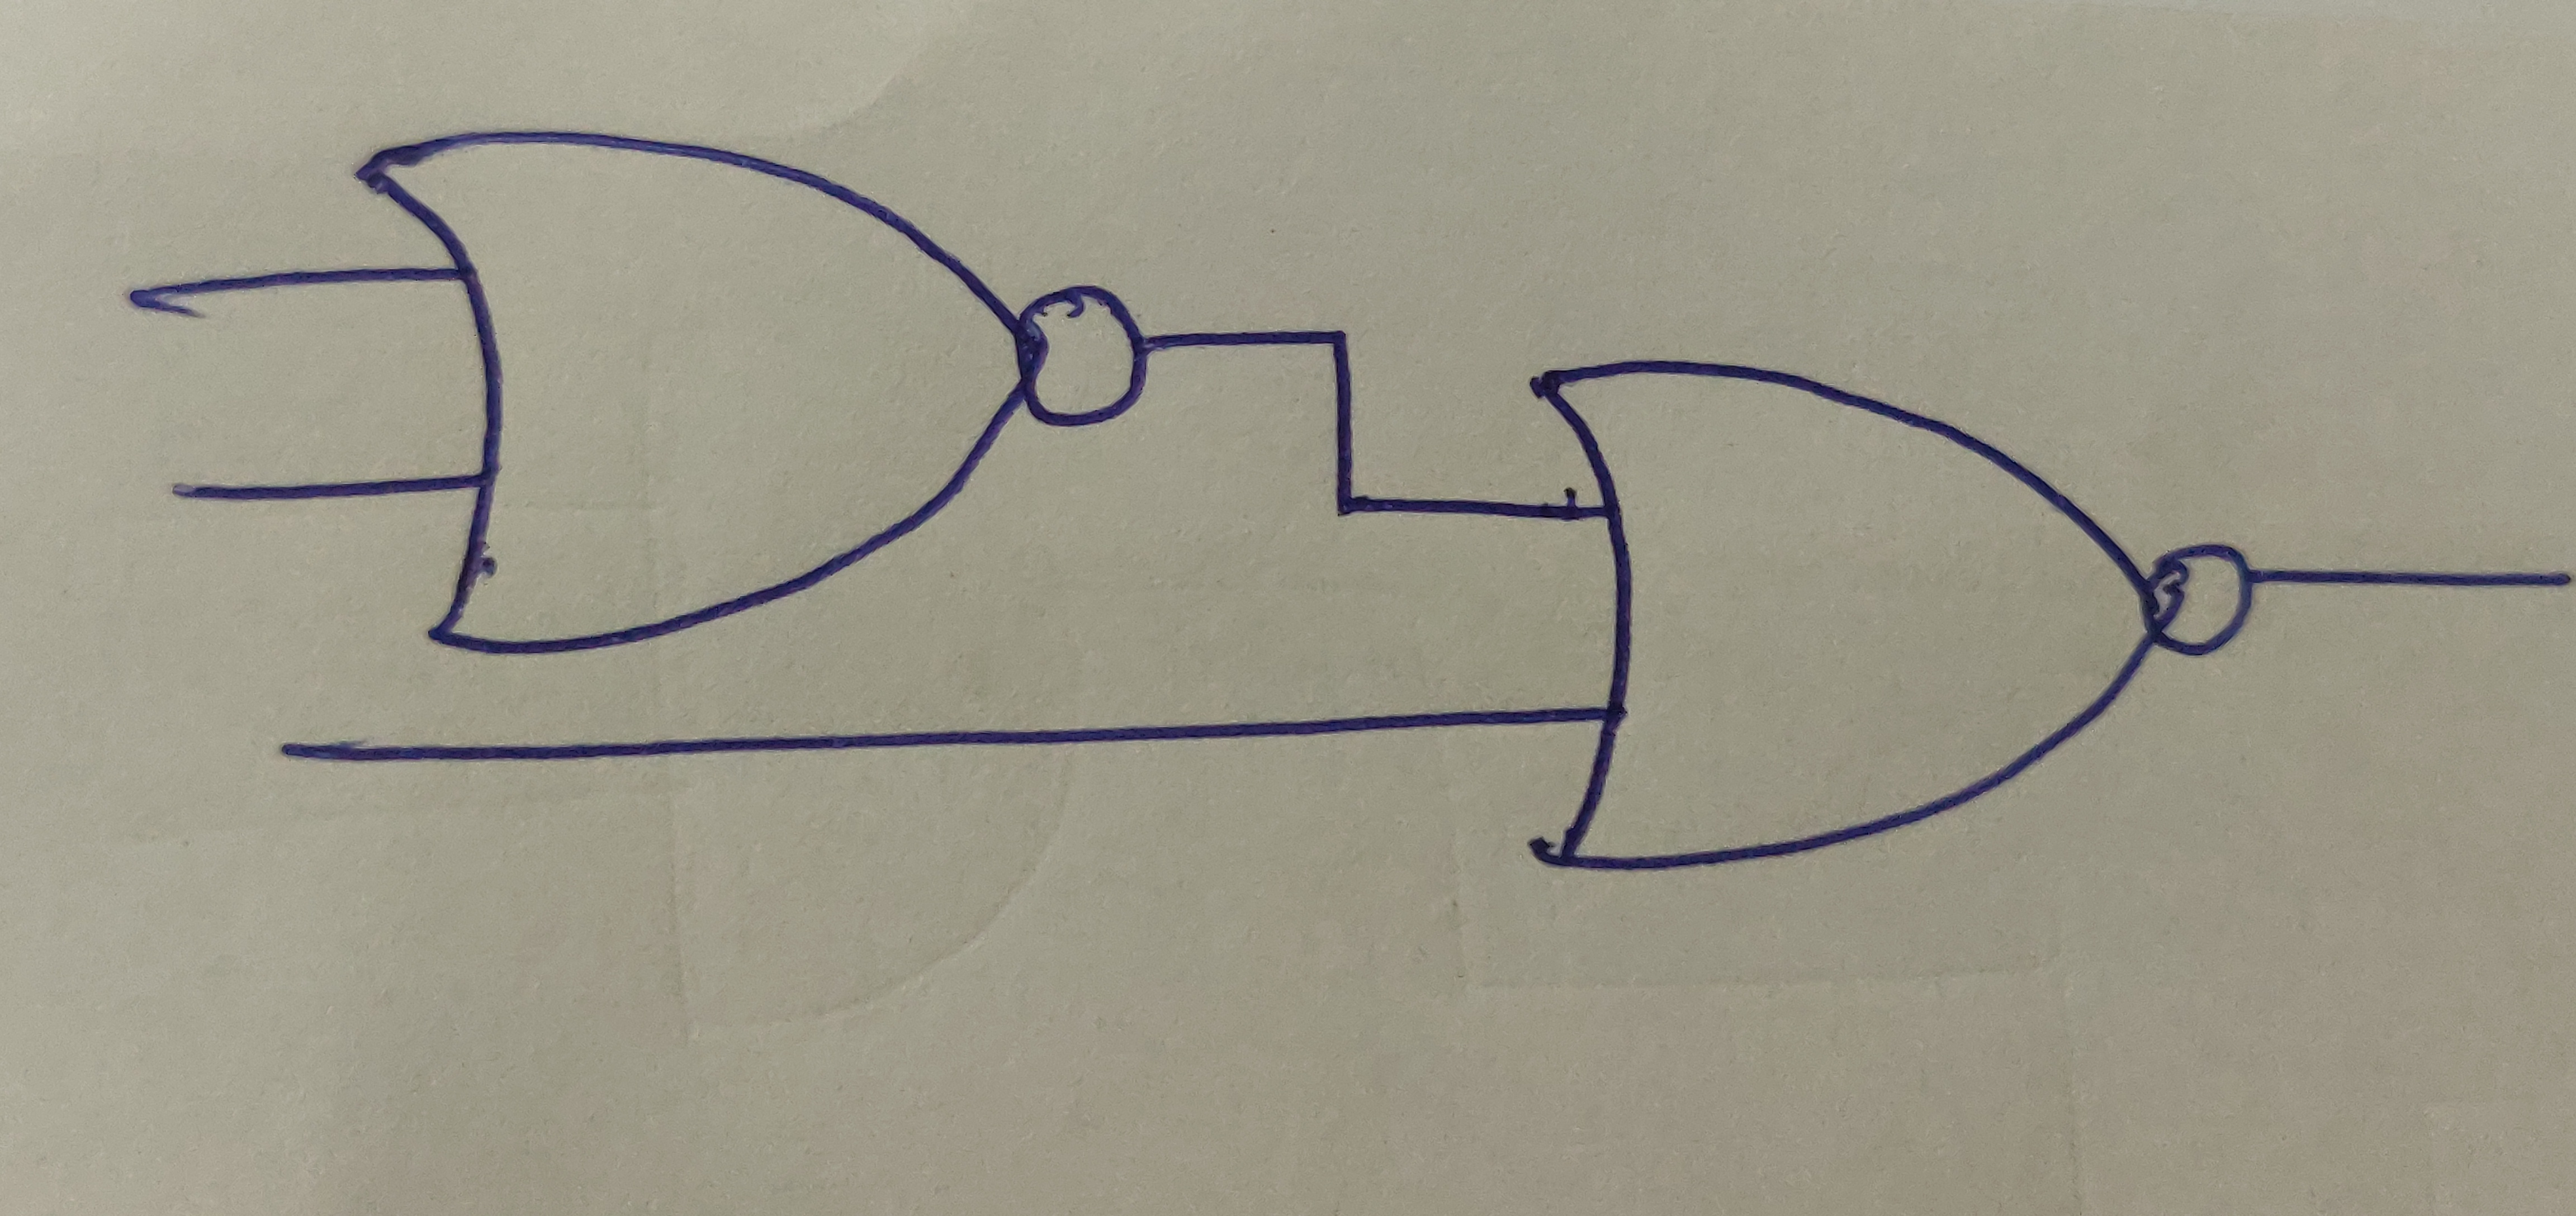not: (1022, 286, 1150, 426), (2159, 541, 2256, 651)
or: (355, 131, 1038, 651), (1526, 362, 2159, 868)
